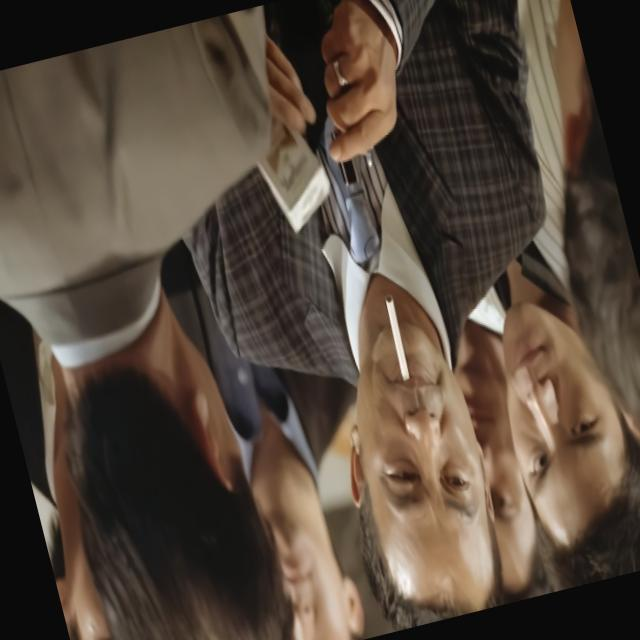smoke: (384, 294, 414, 382)
